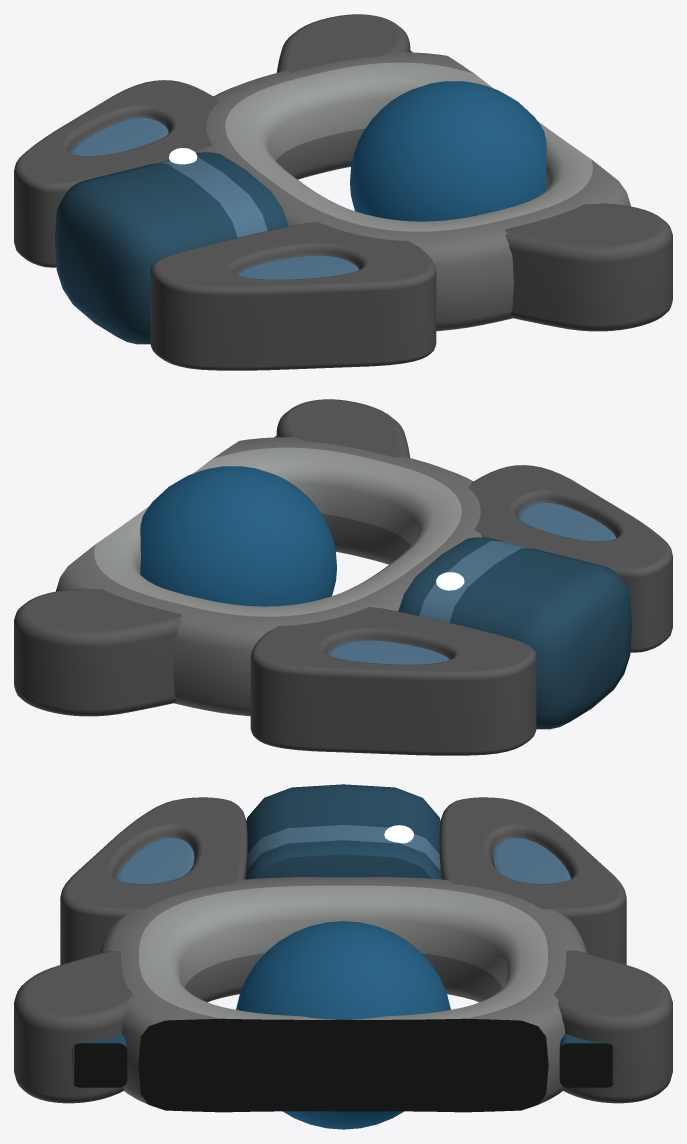
File: ringship_ring_r.glb
The picture shows the model from 3 angles, top to bottom: view 1: azimuth 30°, elevation 25°; view 2: azimuth 150°, elevation 25°; view 3: azimuth 270°, elevation 25°; orthographic projection. The views are drawn at different scales.
Parts seen in each view (by area): view 1: ring_m.001, arm_r.001_m.001, block_m.001, sphere_m.001, arm_l.001_m.001, arm_r_m.001, arm_l_m.001, panel_m.001, panel.001_m.001; view 2: ring_m.001, arm_r_m.001, block_m.001, sphere_m.001, arm_l_m.001, arm_r.001_m.001, arm_l.001_m.001, panel.001_m.001, panel_m.001; view 3: ring_m.001, sphere_m.001, block_m.001, arm_r_m.001, arm_r.001_m.001, arm_l_m.001, arm_l.001_m.001, body_m.001, panel.001_m.001, panel_m.001, claw.001_m.001, claw_m.001.
Part boxes in pixels (bbox=[...]): ring_m.001: bbox=[205, 52, 630, 331]; arm_r.001_m.001: bbox=[150, 222, 436, 370]; block_m.001: bbox=[55, 152, 288, 344]; sphere_m.001: bbox=[350, 81, 546, 221]; arm_l.001_m.001: bbox=[505, 203, 672, 331]; arm_r_m.001: bbox=[14, 80, 218, 267]; arm_l_m.001: bbox=[276, 14, 410, 72]; panel_m.001: bbox=[71, 117, 168, 156]; panel.001_m.001: bbox=[237, 255, 358, 279]; ring_m.001: bbox=[56, 437, 481, 716]; arm_r_m.001: bbox=[250, 607, 536, 755]; block_m.001: bbox=[398, 537, 631, 729]; sphere_m.001: bbox=[140, 466, 336, 606]; arm_l_m.001: bbox=[14, 588, 181, 716]; arm_r.001_m.001: bbox=[468, 465, 672, 652]; arm_l.001_m.001: bbox=[276, 399, 410, 457]; panel.001_m.001: bbox=[518, 502, 615, 541]; panel_m.001: bbox=[328, 640, 449, 664]; ring_m.001: bbox=[99, 877, 587, 1112]; sphere_m.001: bbox=[236, 921, 450, 1129]; block_m.001: bbox=[245, 784, 441, 879]; arm_r_m.001: bbox=[439, 797, 626, 964]; arm_r.001_m.001: bbox=[60, 797, 247, 964]; arm_l_m.001: bbox=[554, 950, 672, 1103]; arm_l.001_m.001: bbox=[14, 950, 132, 1103]; body_m.001: bbox=[273, 1019, 413, 1111]; panel.001_m.001: bbox=[116, 837, 194, 883]; panel_m.001: bbox=[492, 837, 570, 883]; claw.001_m.001: bbox=[71, 1034, 127, 1087]; claw_m.001: bbox=[559, 1034, 614, 1087].
Size of the model in its own units: 19.7 by 7.6 by 24.25.
